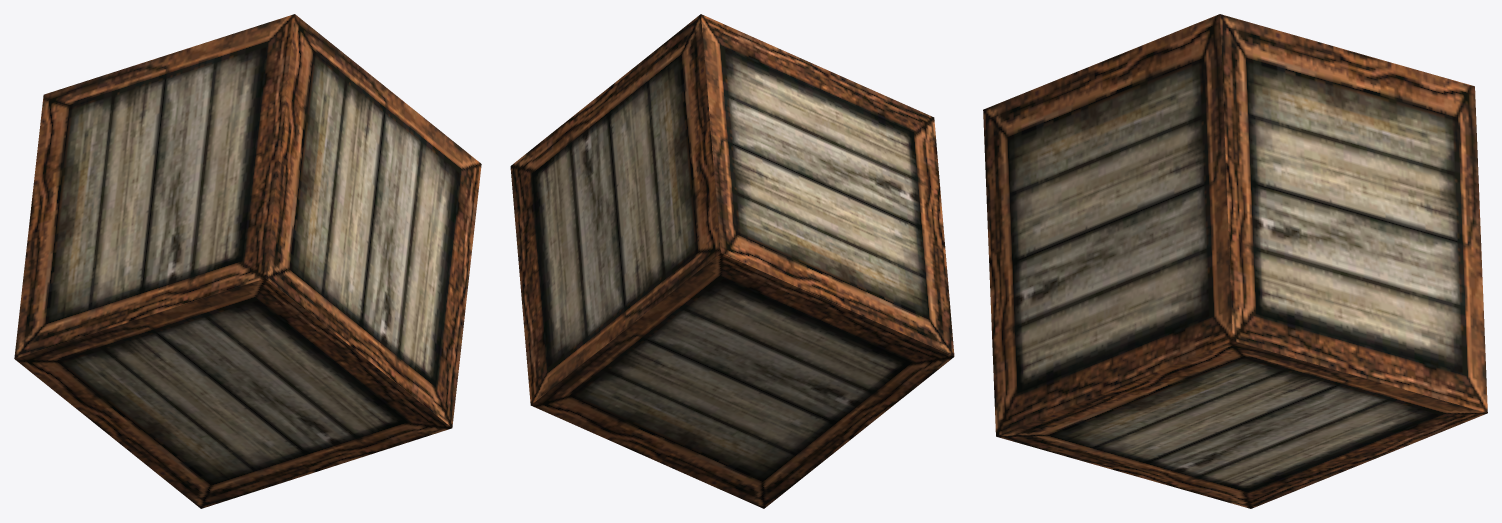
The model's file is INST_LT_CRATE_FLOAT.fbx.
3 views of the same model, side by side, from view 1: azimuth 30°, elevation 25°; view 2: azimuth 150°, elevation 25°; view 3: azimuth 270°, elevation 25° (orthographic). The views are drawn at different scales.
Visible parts, largest first — view 1: INST_LT_CRATE_FLOAT; view 2: INST_LT_CRATE_FLOAT; view 3: INST_LT_CRATE_FLOAT.
Part boxes in pixels (x1=…): INST_LT_CRATE_FLOAT: x1=14, y1=14, x2=481, y2=508; INST_LT_CRATE_FLOAT: x1=510, y1=14, x2=954, y2=508; INST_LT_CRATE_FLOAT: x1=983, y1=14, x2=1487, y2=508.
Bounding box in the file's own units: 12112 × 12096 × 10283.
Materials: 1 (1 with a texture image).
